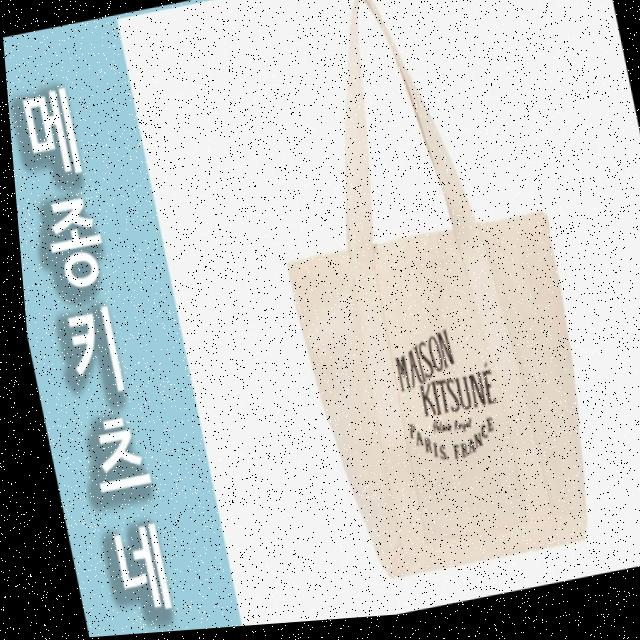ecobag: (213, 0, 619, 609)
